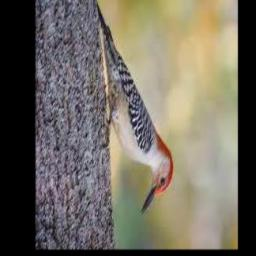Woodpecker: (96, 1, 174, 214)
